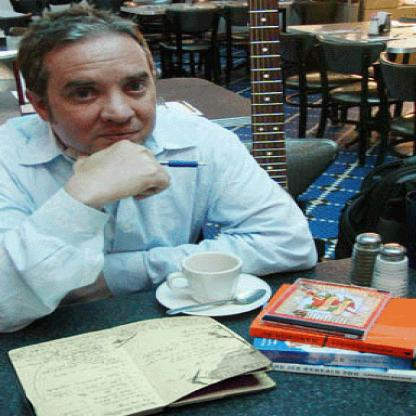Person: (1, 7, 316, 334)
